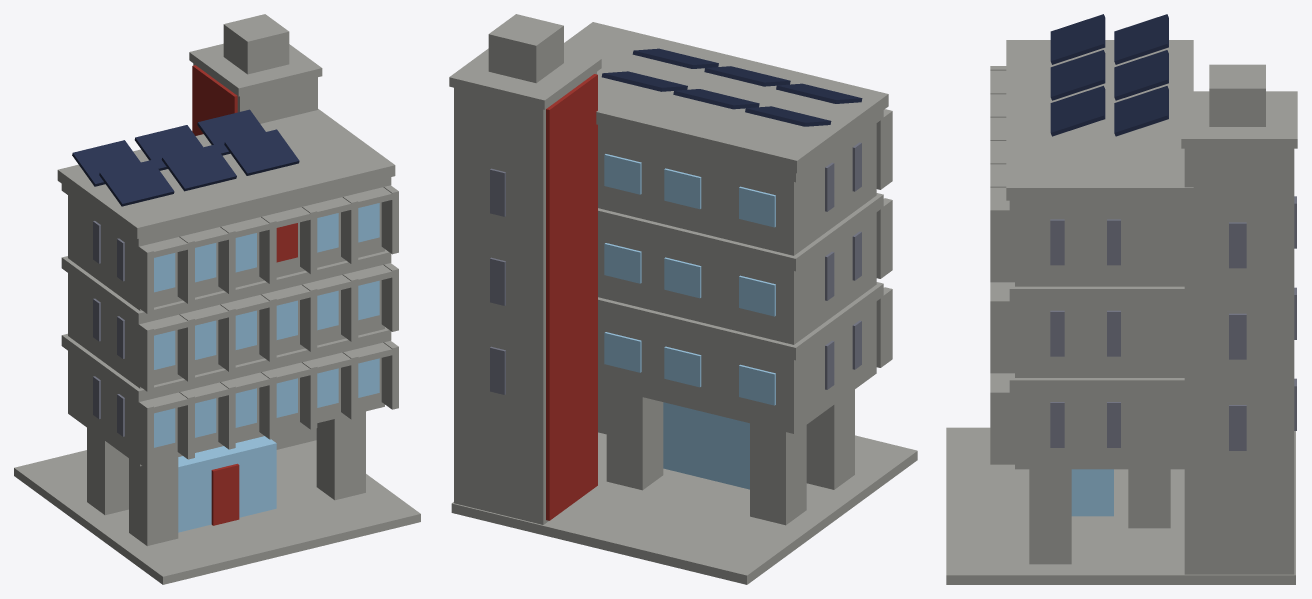
The model's file is tower-1x1-4f-brutalist-a-solar.glb.
3 renders of one model, left to right at view 1: azimuth 30°, elevation 25°; view 2: azimuth 150°, elevation 25°; view 3: azimuth 270°, elevation 25°, orthographic. The views are drawn at different scales.
Parts seen in each view (by area): view 1: tower-1x1-4f-brutalist-a-solar; view 2: tower-1x1-4f-brutalist-a-solar; view 3: tower-1x1-4f-brutalist-a-solar.
Boxes of the visible parts, box(x1,y1,x2,y2) form: tower-1x1-4f-brutalist-a-solar: box(14, 14, 420, 584); tower-1x1-4f-brutalist-a-solar: box(449, 14, 917, 584); tower-1x1-4f-brutalist-a-solar: box(946, 14, 1297, 584).
Size of the model in its own units: 0.995 by 1.51 by 0.995.
1 material, 1 textured.
